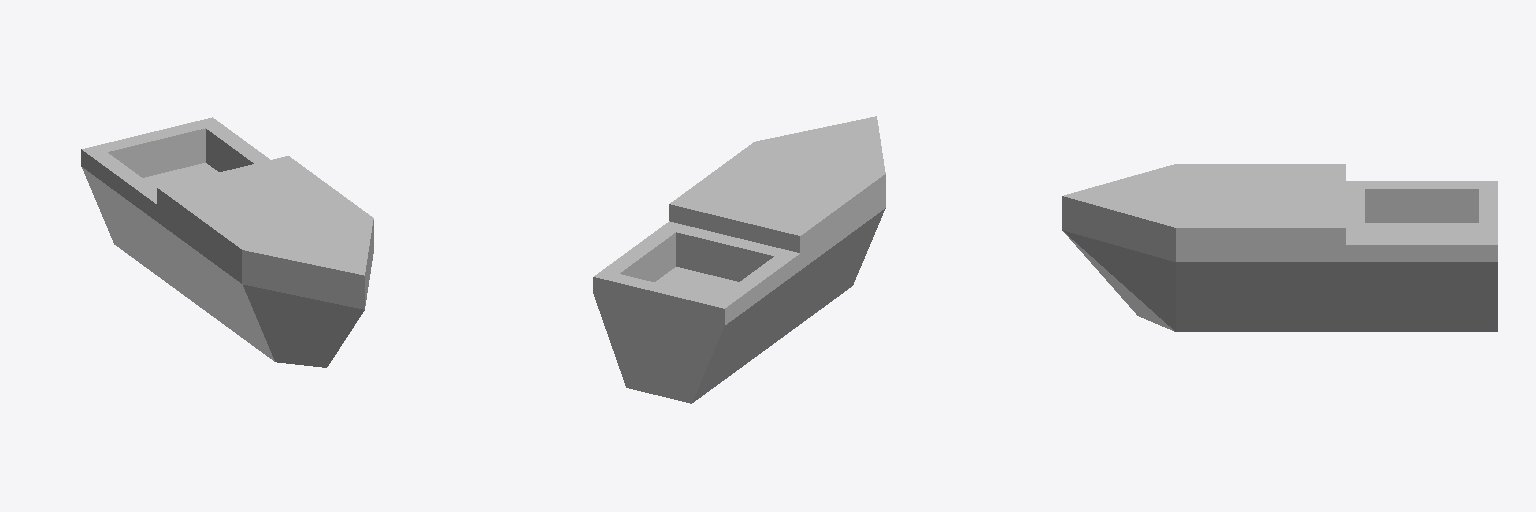
Rendered from boat.obj.
3 views of the same model, side by side, from view 1: azimuth 30°, elevation 25°; view 2: azimuth 150°, elevation 25°; view 3: azimuth 270°, elevation 25° (orthographic).
Visible parts, largest first — view 1: Cube.002; view 2: Cube.002; view 3: Cube.002.
Boxes of the visible parts, box(x1,y1,x2,y2) form: Cube.002: box(81, 117, 373, 367); Cube.002: box(593, 116, 885, 403); Cube.002: box(1062, 164, 1497, 331).
Size of the model in its own units: 16 by 14 by 46.